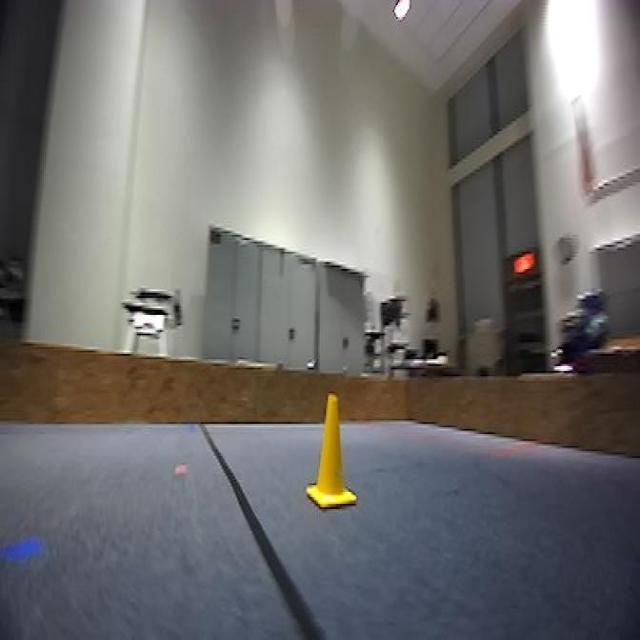frc_cone: (306, 396, 357, 516)
